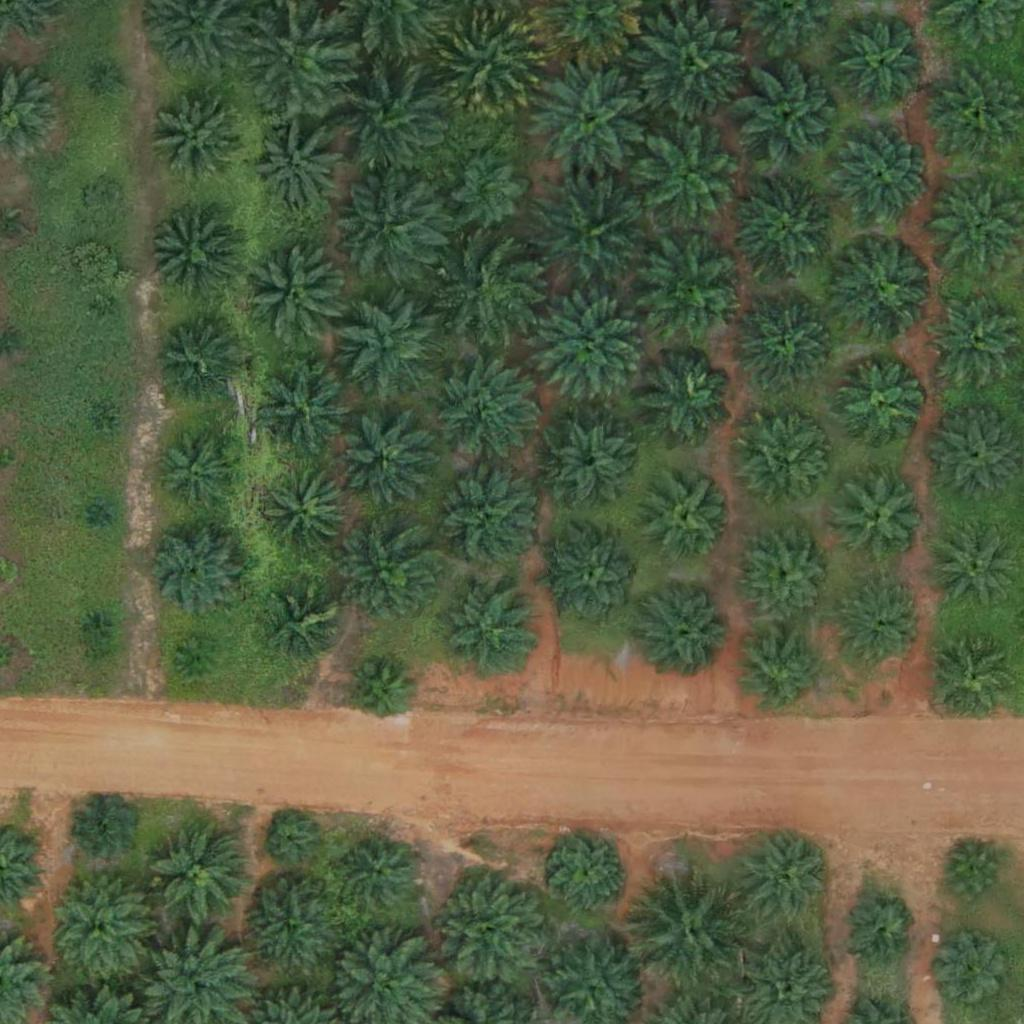Kelapa_Sawit: (430, 865, 555, 991), (629, 866, 754, 992), (532, 297, 645, 411), (634, 125, 747, 238), (432, 7, 545, 120), (532, 59, 645, 172), (529, 177, 642, 290), (333, 64, 445, 178), (337, 167, 449, 281), (633, 7, 745, 120), (139, 515, 251, 628), (829, 125, 929, 226), (834, 238, 934, 339), (737, 65, 837, 166), (735, 181, 835, 282), (737, 291, 837, 392), (645, 235, 745, 336), (336, 296, 436, 397), (245, 245, 345, 346), (253, 357, 353, 458), (340, 524, 440, 625), (434, 469, 534, 570), (439, 579, 539, 680), (50, 876, 150, 977), (150, 824, 250, 925), (239, 878, 339, 979), (634, 347, 734, 447), (441, 240, 541, 340), (434, 361, 534, 461), (545, 528, 645, 628), (637, 579, 737, 679), (739, 525, 839, 625), (734, 829, 834, 929), (157, 426, 245, 515), (836, 362, 924, 450), (542, 420, 630, 508), (154, 318, 242, 406), (263, 470, 351, 558), (836, 475, 924, 563), (838, 581, 926, 669), (934, 521, 1022, 609), (931, 631, 1019, 719), (839, 22, 926, 110), (742, 421, 829, 509), (343, 422, 430, 510), (255, 123, 342, 211), (155, 90, 242, 178), (148, 212, 235, 300), (645, 471, 732, 559), (739, 628, 826, 716), (450, 151, 525, 227), (551, 834, 626, 910), (839, 894, 914, 970), (937, 936, 1012, 1011), (270, 588, 345, 663), (342, 837, 417, 912), (349, 661, 412, 724), (72, 799, 135, 862), (942, 842, 1004, 905), (267, 816, 317, 866), (86, 182, 124, 220), (179, 637, 217, 675), (99, 67, 124, 92), (95, 297, 120, 322), (89, 413, 114, 438), (90, 502, 115, 527), (83, 612, 108, 637)
